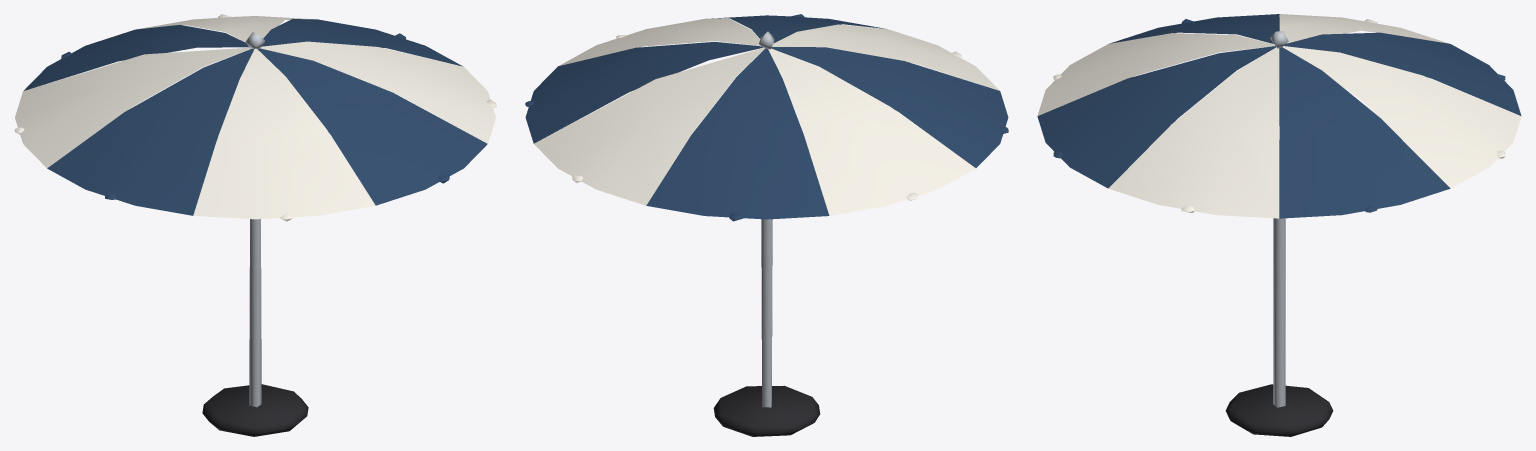
File: lod_patio_umbrella.glb
3 renders of one model, left to right at view 1: azimuth 30°, elevation 25°; view 2: azimuth 150°, elevation 25°; view 3: azimuth 270°, elevation 25°, orthographic.
Parts seen in each view (by area): view 1: patio_umbrella; view 2: patio_umbrella; view 3: patio_umbrella.
Boxes of the visible parts, left/top/right/bottom form: patio_umbrella: left=14, top=14, right=496, bottom=436; patio_umbrella: left=525, top=14, right=1008, bottom=436; patio_umbrella: left=1037, top=14, right=1521, bottom=436.
Size of the model in its own units: 3.1 by 2.72 by 3.1.
